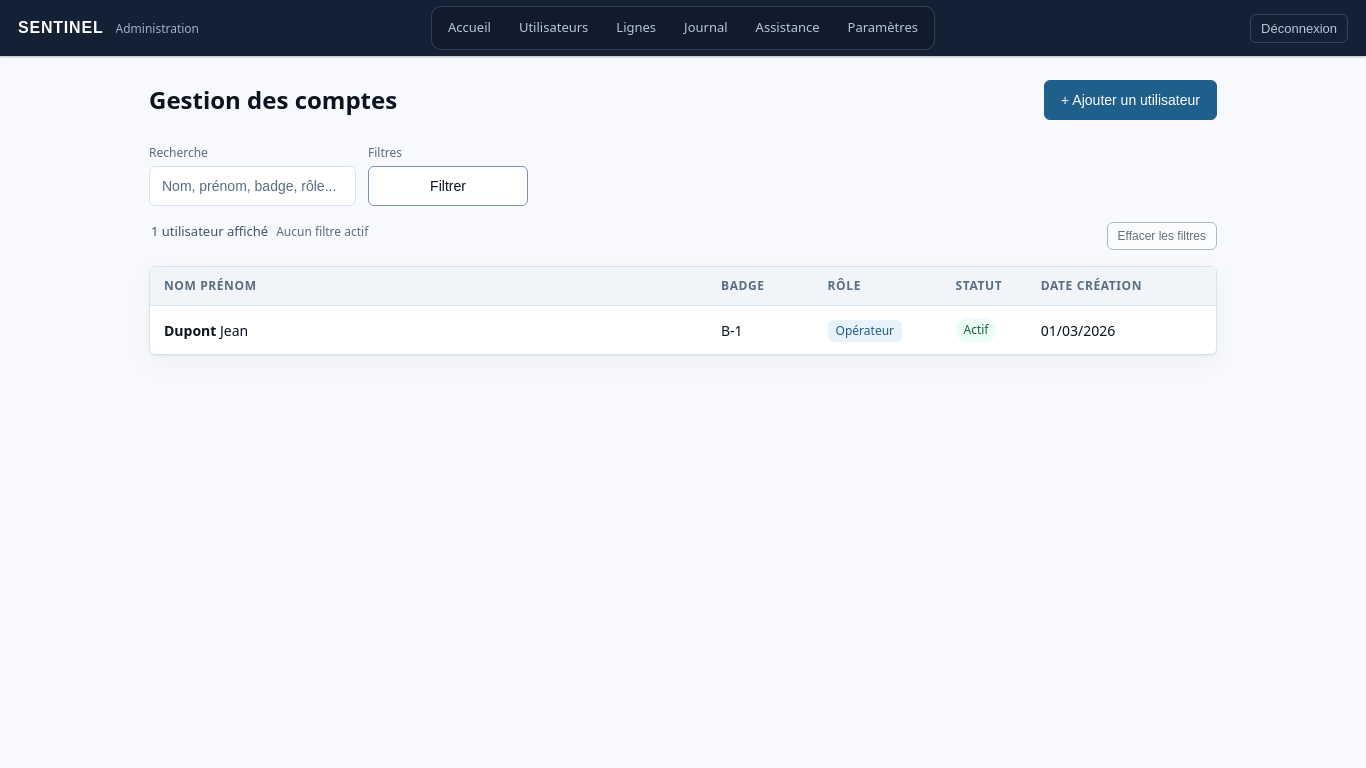
Test case: UserListPage — filtre de rôle (RC5-8) › expose le nom accessible « Rôle » dans la modale de filtres
Check: the text "Dupont" is shown, box [164, 320, 216, 340]
What coordinates should you click on to do the following:
click the button "Filtrer"
I would click on:
 (448, 186)
Its box is [368, 166, 528, 206].
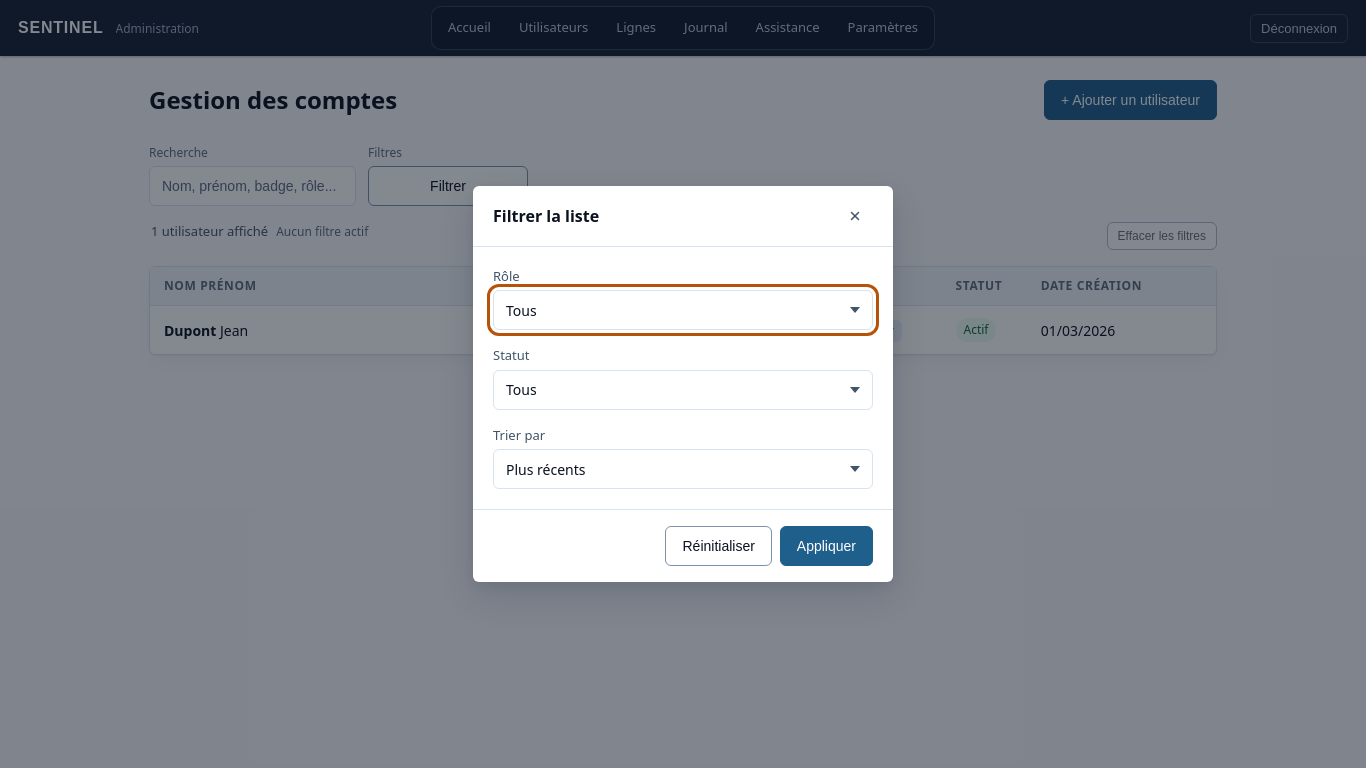
Check: the dropdown named "Rôle" is shown, box [493, 290, 873, 330]
